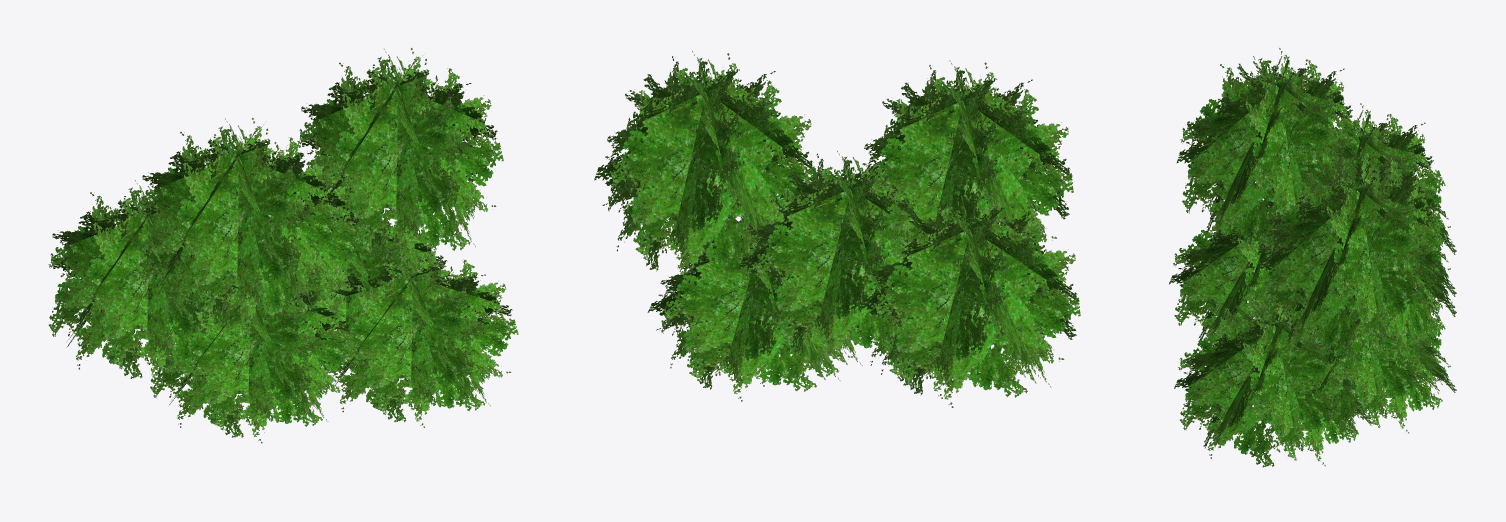
File: blueberry.dae
3 views of the same model, side by side, from view 1: azimuth 30°, elevation 25°; view 2: azimuth 150°, elevation 25°; view 3: azimuth 270°, elevation 25° (orthographic). The views are drawn at different scales.
Visible parts, largest first — view 1: Cylinder_005; view 2: Cylinder_005; view 3: Cylinder_005.
Part boxes in pixels (<box>): Cylinder_005: <box>48,48,518,443</box>; Cylinder_005: <box>594,51,1080,407</box>; Cylinder_005: <box>1169,48,1456,467</box>.
Size of the model in its own units: 2.22 by 1.44 by 1.7.
